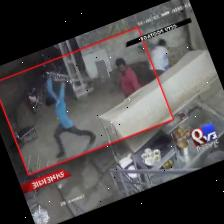person: (44, 74, 95, 158), (115, 58, 141, 98), (150, 40, 169, 72)
